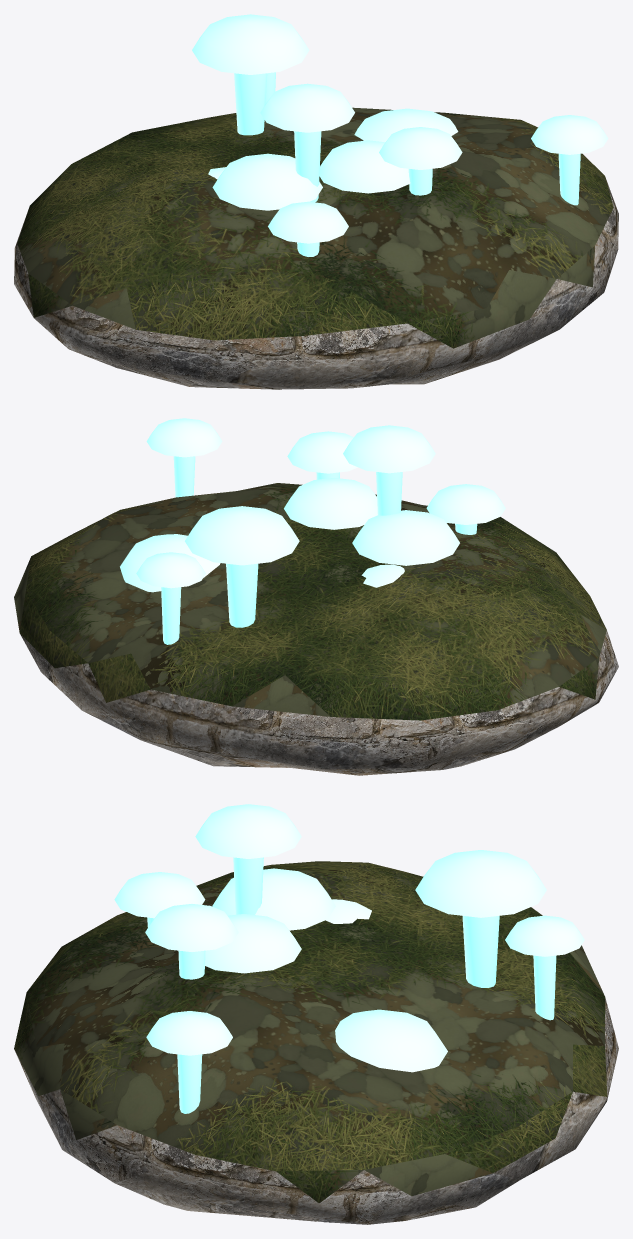
File: bioluminescent-fungi-v01.glb
3 views of the same model, one above another, from view 1: azimuth 30°, elevation 25°; view 2: azimuth 150°, elevation 25°; view 3: azimuth 270°, elevation 25° (orthographic). The views are drawn at different scales.
Parts seen in each view (by area): view 1: bioluminescent-fungi; view 2: bioluminescent-fungi; view 3: bioluminescent-fungi.
Boxes of the visible parts, x1,y1,x2,y2 form: bioluminescent-fungi: [14, 14, 618, 389]; bioluminescent-fungi: [14, 418, 618, 775]; bioluminescent-fungi: [14, 804, 618, 1224].
Bounding box in the file's own units: 1.6 × 0.7252 × 1.32.
Materials: 3 (2 with a texture image).
